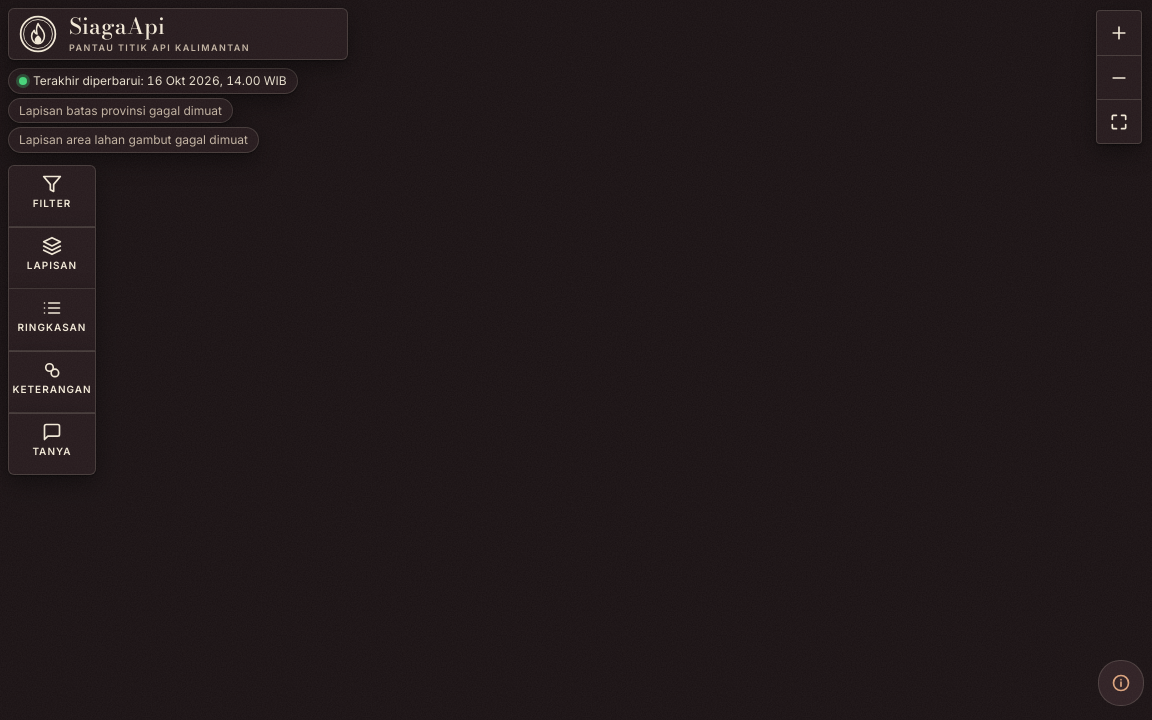
on a phone the summary opens on demand and shows the counts
Click the button "Ringkasan": (52, 320) x1=9 y1=298 x2=95 y2=342
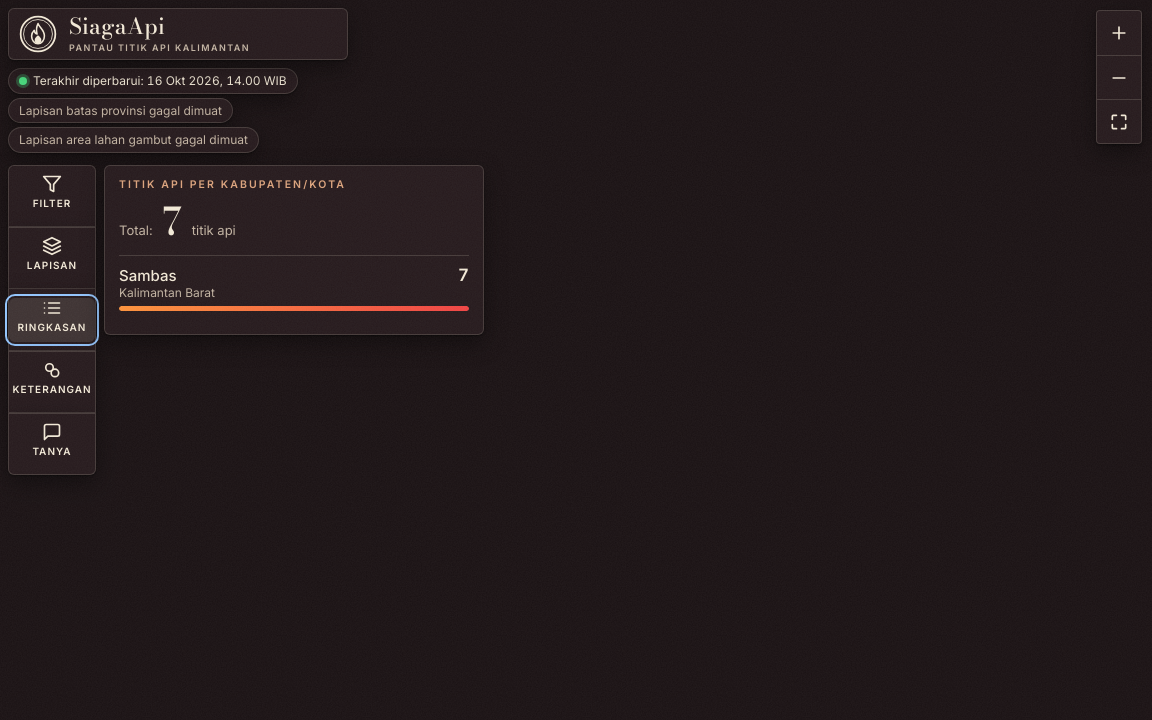
Now the list item "Sambas" shows "7", box x1=458 y1=265 x2=469 y2=285
Now the button "Ringkasan" is expanded, box x1=9 y1=298 x2=95 y2=342
